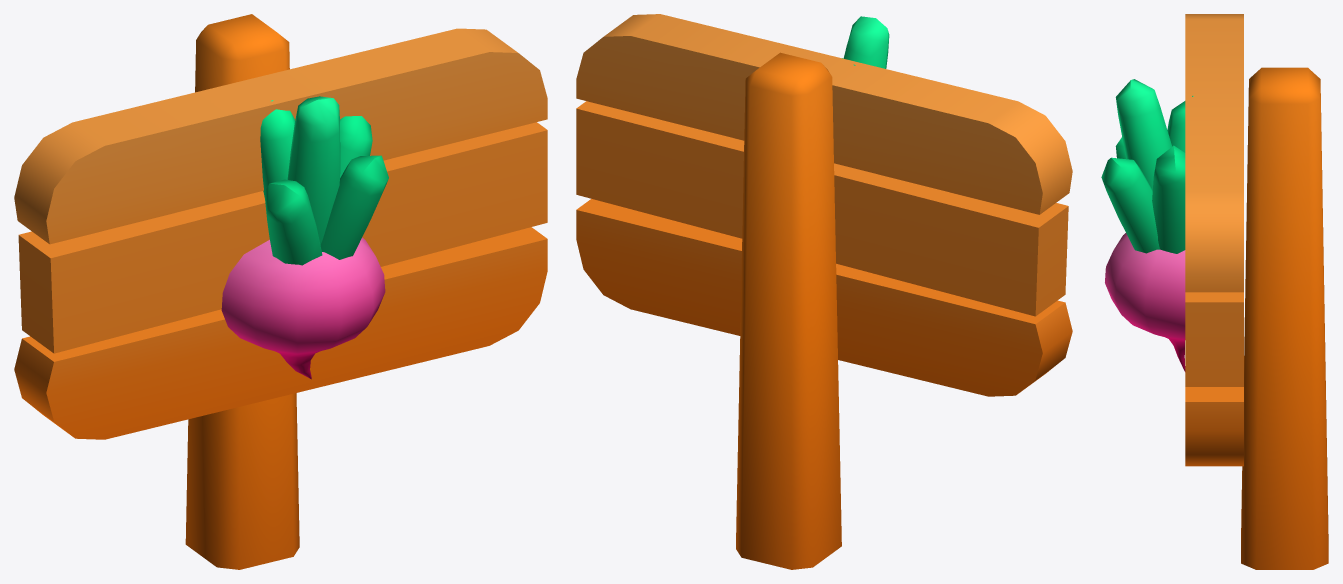
File: Farm_Crop_Sign_Beet_01.fbx
3 views of the same model, side by side, from view 1: azimuth 30°, elevation 25°; view 2: azimuth 150°, elevation 25°; view 3: azimuth 270°, elevation 25° (orthographic). The views are drawn at different scales.
Parts seen in each view (by area): view 1: Farm_Crop_Sign_Beet_01; view 2: Farm_Crop_Sign_Beet_01; view 3: Farm_Crop_Sign_Beet_01.
Part boxes in pixels (x1=…): Farm_Crop_Sign_Beet_01: x1=14, y1=14, x2=547, y2=569; Farm_Crop_Sign_Beet_01: x1=576, y1=14, x2=1072, y2=569; Farm_Crop_Sign_Beet_01: x1=1101, y1=14, x2=1328, y2=569.
Bounding box in the file's own units: 90.11 × 88.8 × 38.59.
